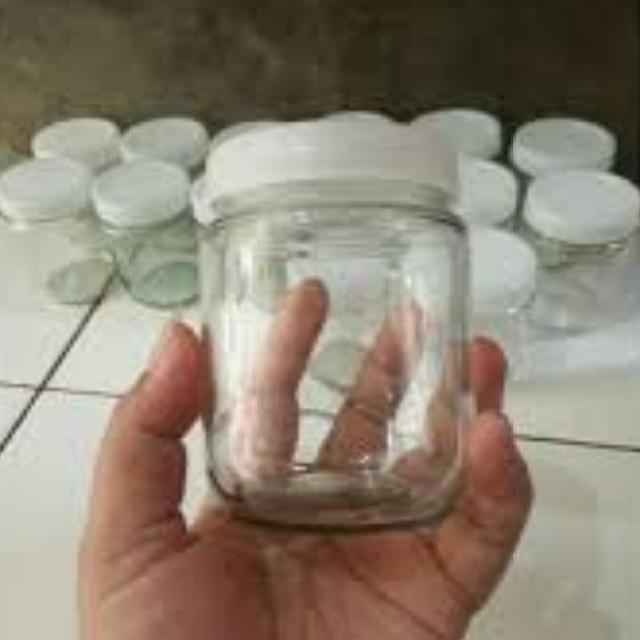ToplesKaca: (186, 126, 471, 526)
